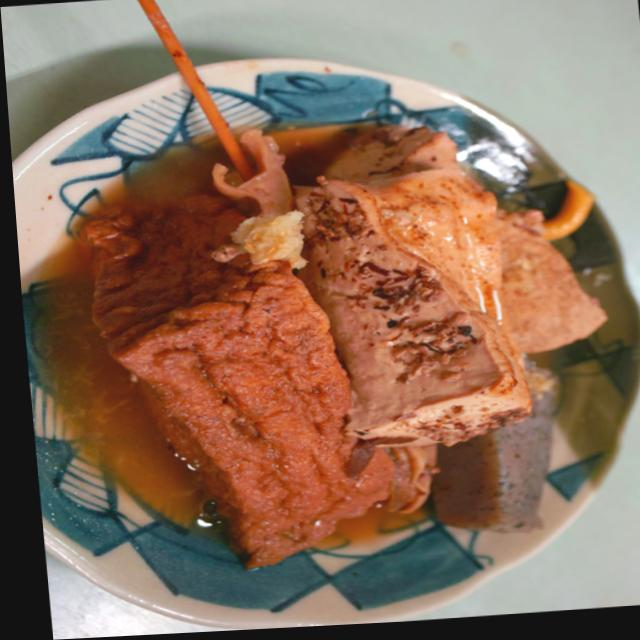汤锅炖物: (51, 58, 630, 585)
